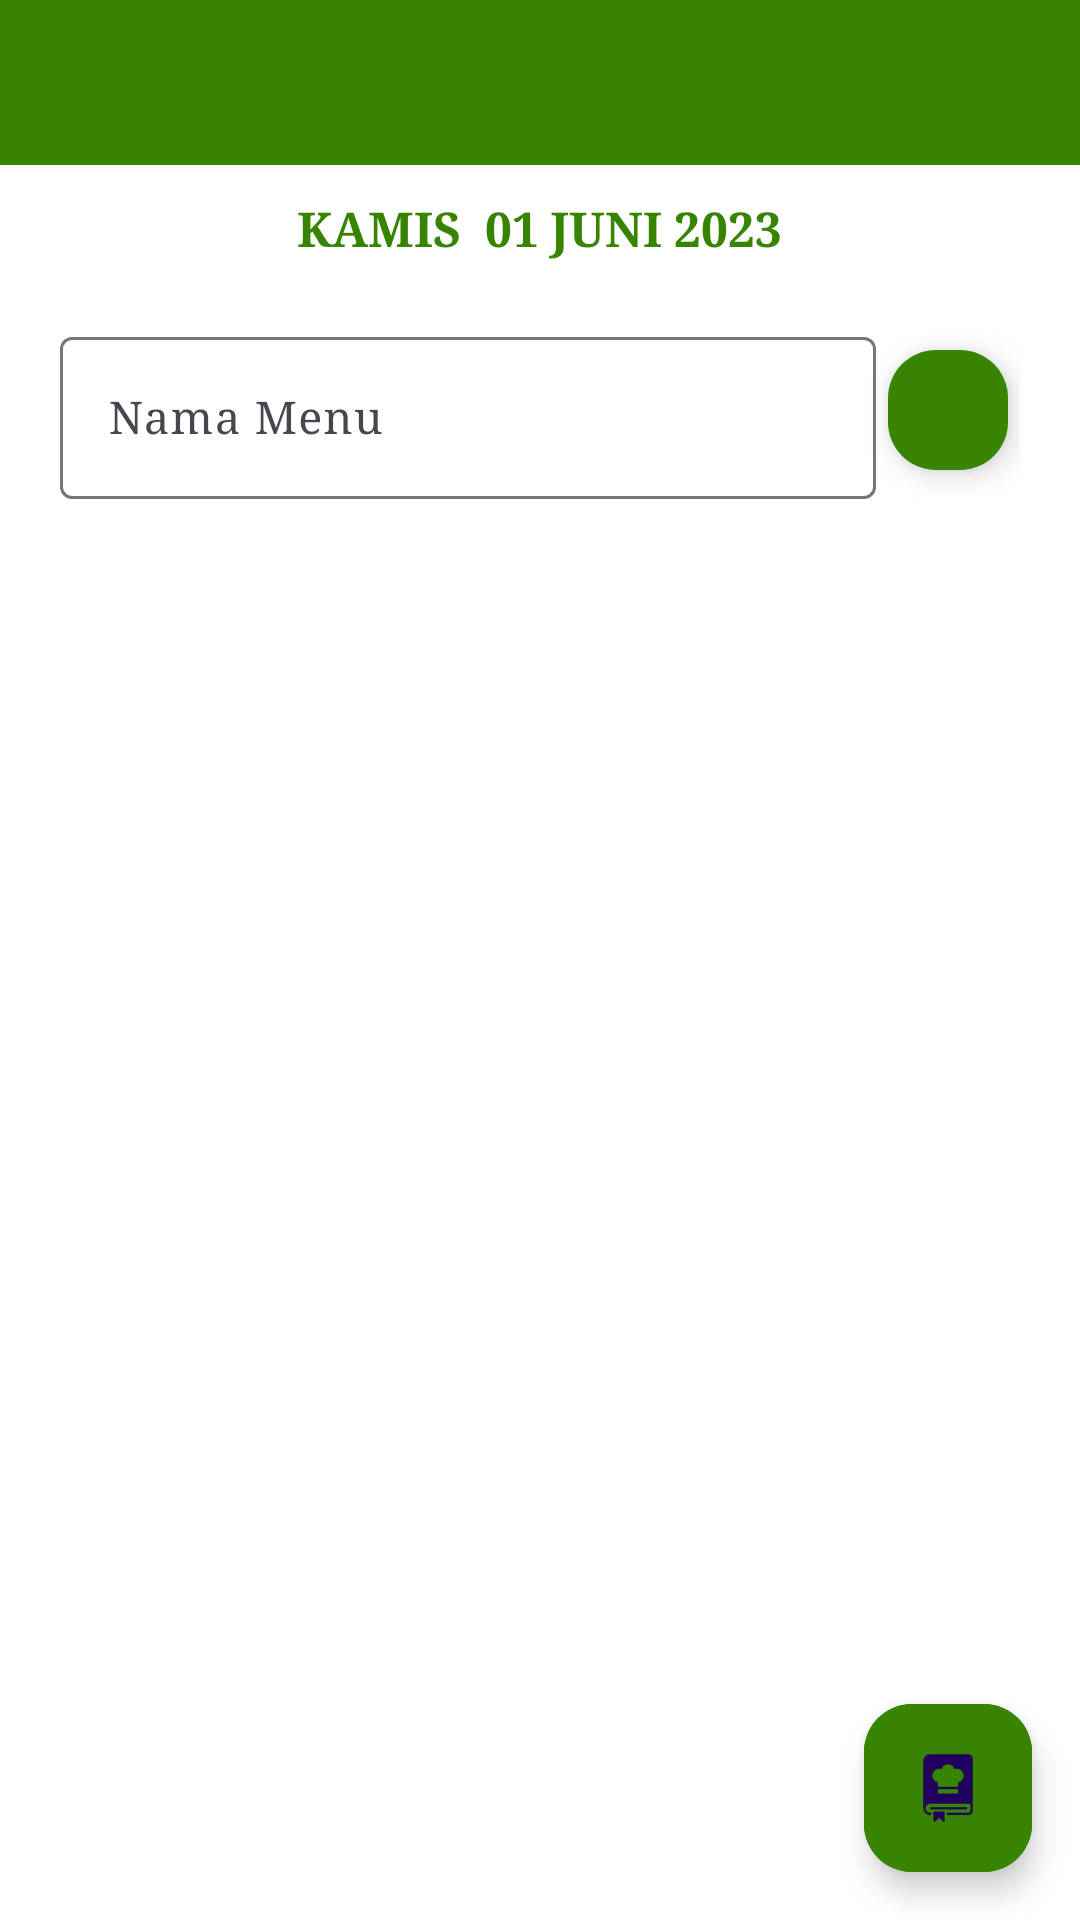

Screen size 1080 × 1920. Icon name, then its center in pixels as [x,y]:
resep: [948,1788]
